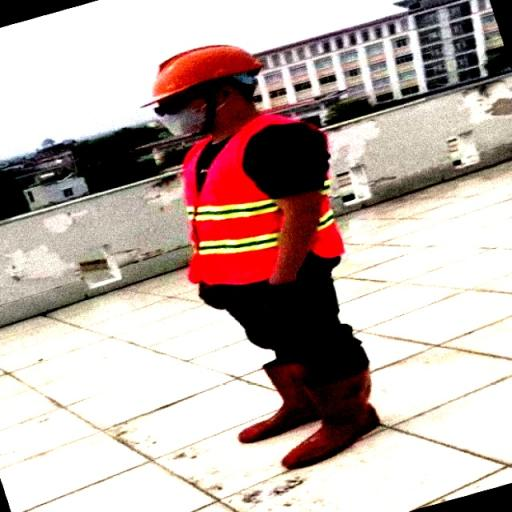Person: (122, 36, 394, 488)
boots: (278, 362, 384, 475), (234, 354, 330, 446)
gloves: (248, 282, 302, 328), (194, 278, 232, 311)
goggles: (143, 77, 239, 118)
helmet: (132, 40, 265, 115)
vest: (145, 80, 284, 218)
